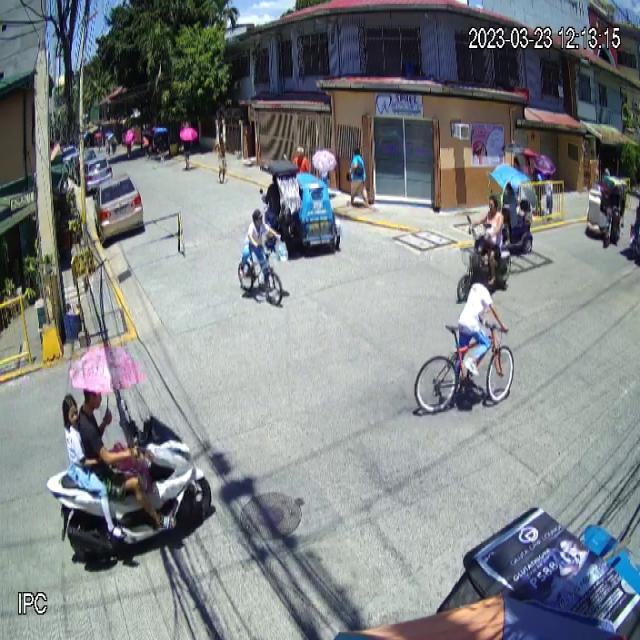Car: (93, 174, 143, 240)
Motorcycle: (45, 409, 211, 565)
Tricycle: (259, 161, 341, 251)
